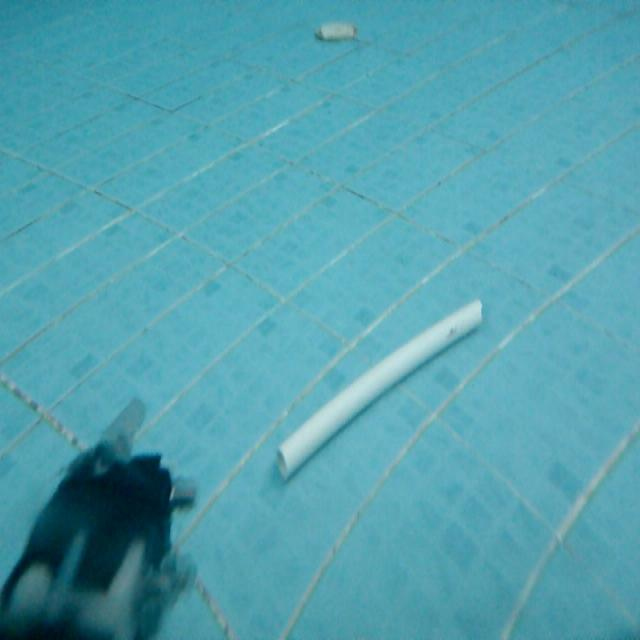Cube: (272, 292, 485, 481)
